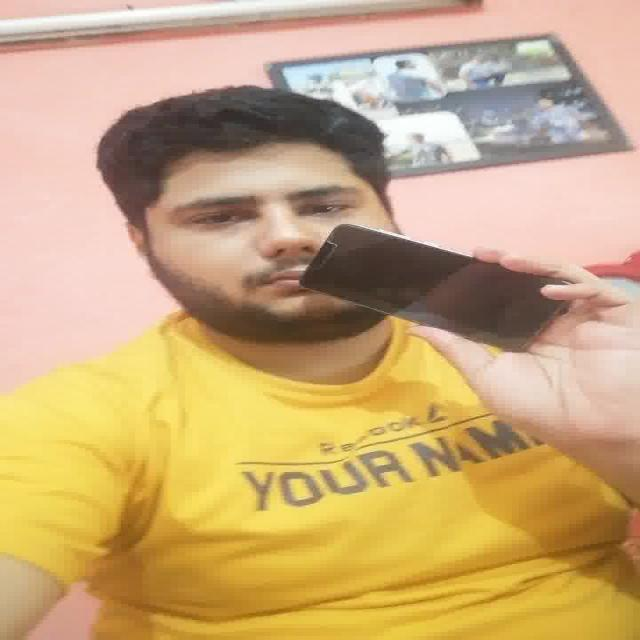Phone: (300, 220, 574, 352)
